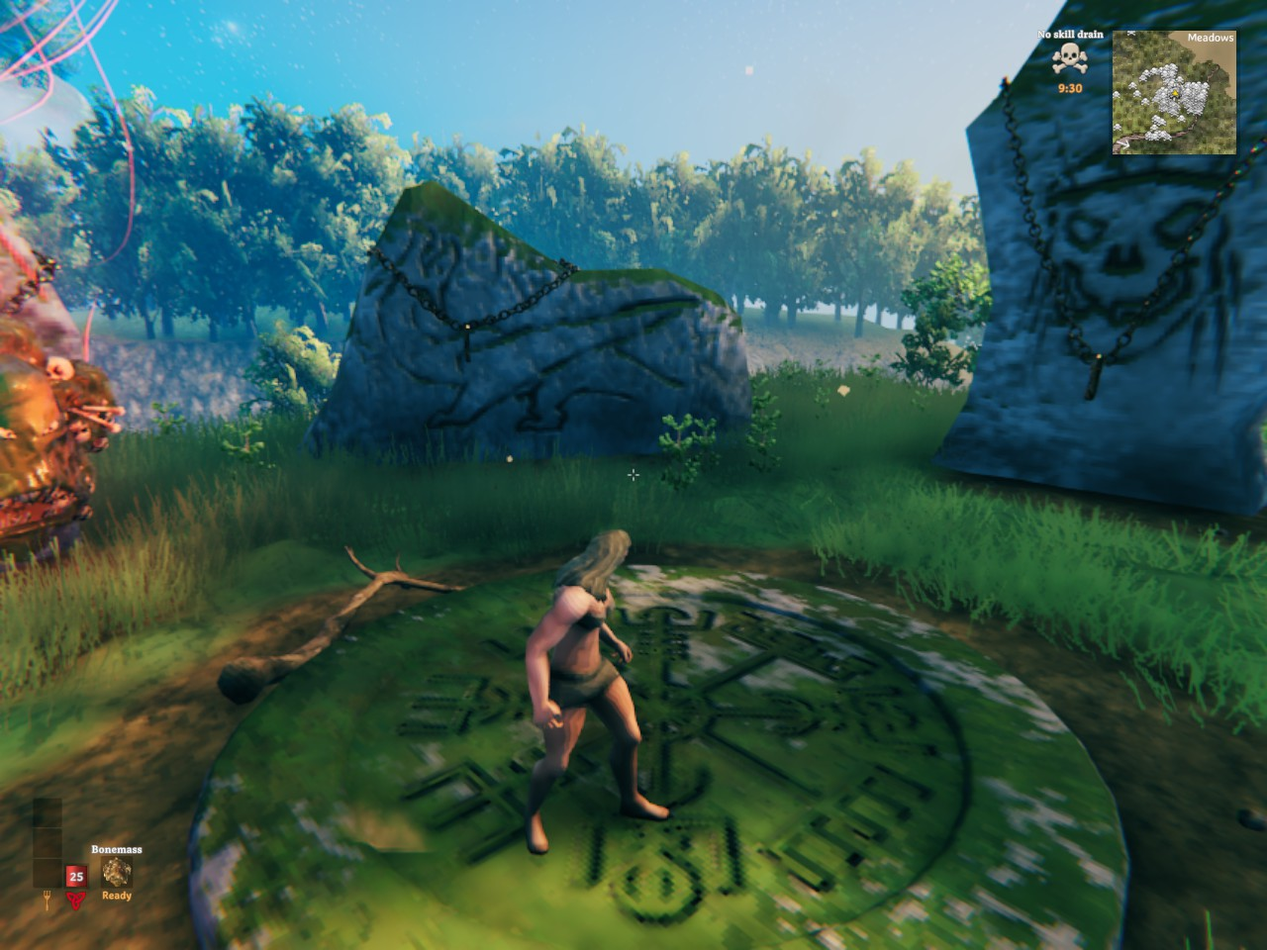Branch: (217, 546, 463, 704)
Spawn Point: (190, 565, 1128, 949)
